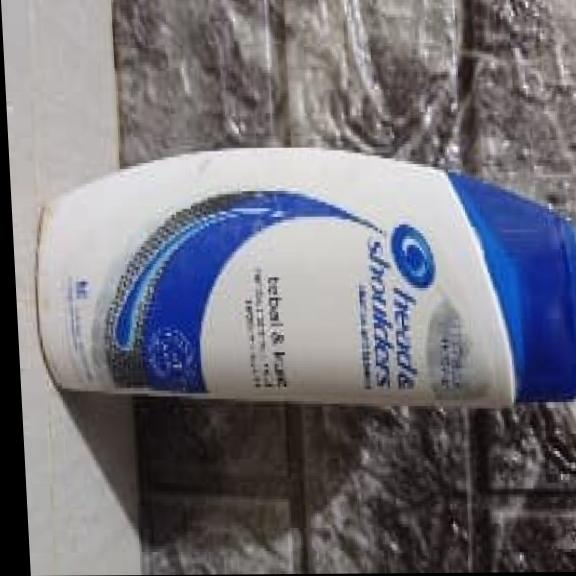Plastik: (19, 143, 576, 424)
